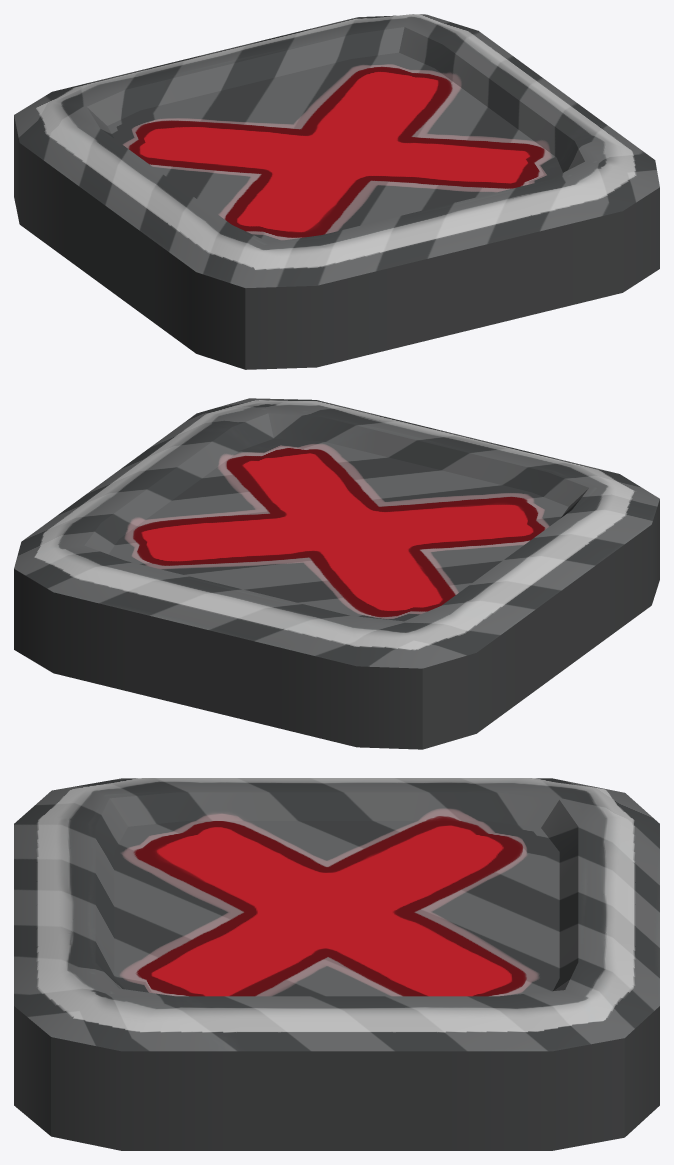
File: stageselect_stage_black.fbx
The picture shows the model from 3 angles, top to bottom: view 1: azimuth 30°, elevation 25°; view 2: azimuth 150°, elevation 25°; view 3: azimuth 270°, elevation 25°; orthographic projection. The views are drawn at different scales.
Visible parts, largest first — view 1: stagee_03; view 2: stagee_03; view 3: stagee_03.
Part boxes in pixels (x1,y1,x2,y2): stagee_03: (14, 14, 659, 369); stagee_03: (14, 398, 659, 749); stagee_03: (14, 778, 659, 1150).
Bounding box in the file's own units: 0.7284 × 0.1493 × 0.7284.
Materials: 1 (1 with a texture image).
